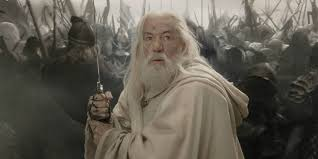gandalf gray: (80, 15, 251, 157)
